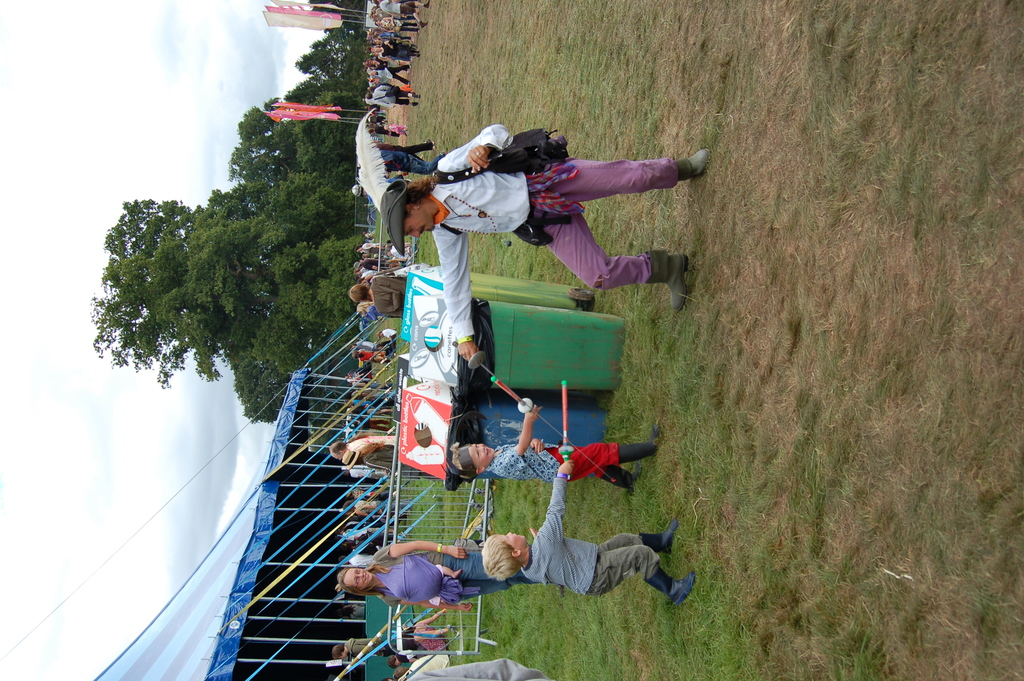Person: (329, 0, 710, 680)
